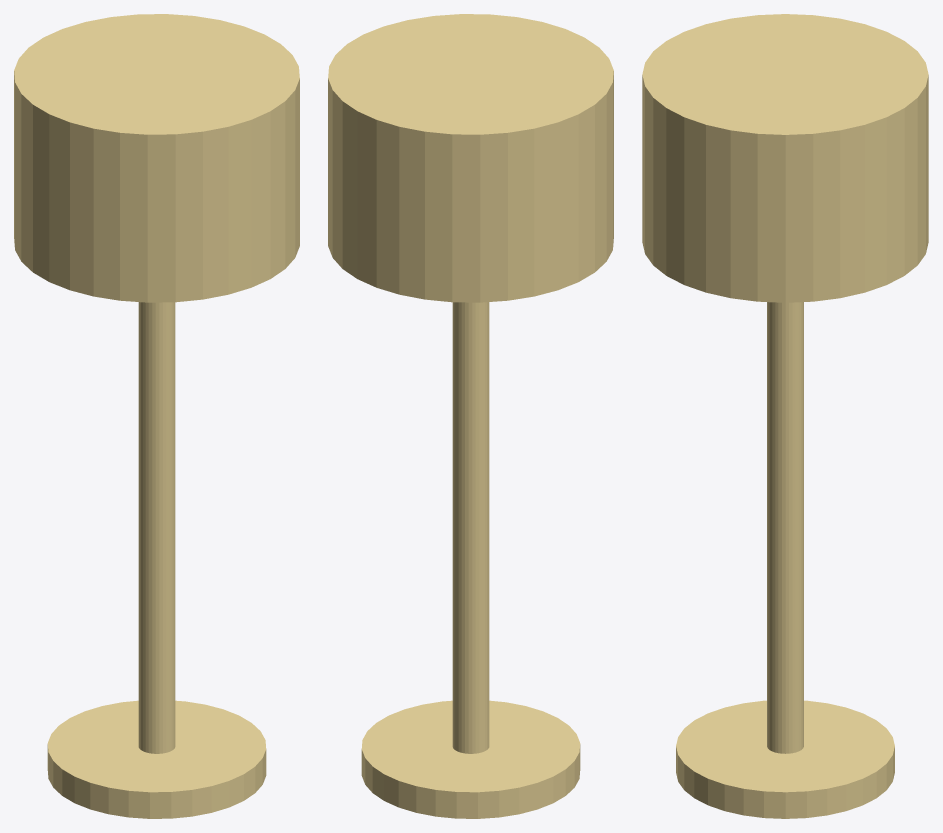
File: lamp.glb
3 renders of one model, left to right at view 1: azimuth 30°, elevation 25°; view 2: azimuth 150°, elevation 25°; view 3: azimuth 270°, elevation 25°, orthographic.
Parts seen in each view (by area): view 1: lamp; view 2: lamp; view 3: lamp.
Part boxes in pixels (box(x1,y1,x2,y2)): lamp: box(14, 14, 299, 818); lamp: box(328, 14, 613, 818); lamp: box(642, 14, 928, 818).
Bounding box in the file's own units: 0.34 × 0.915 × 0.34.
